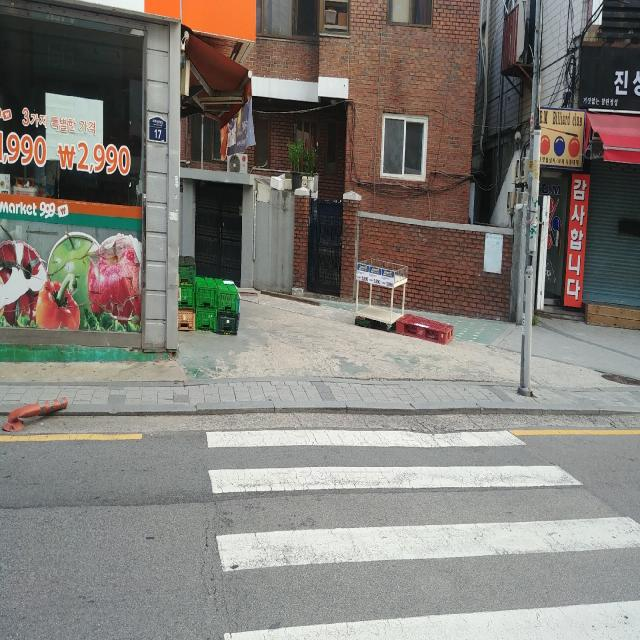횡단보도: (206, 428, 640, 640)
